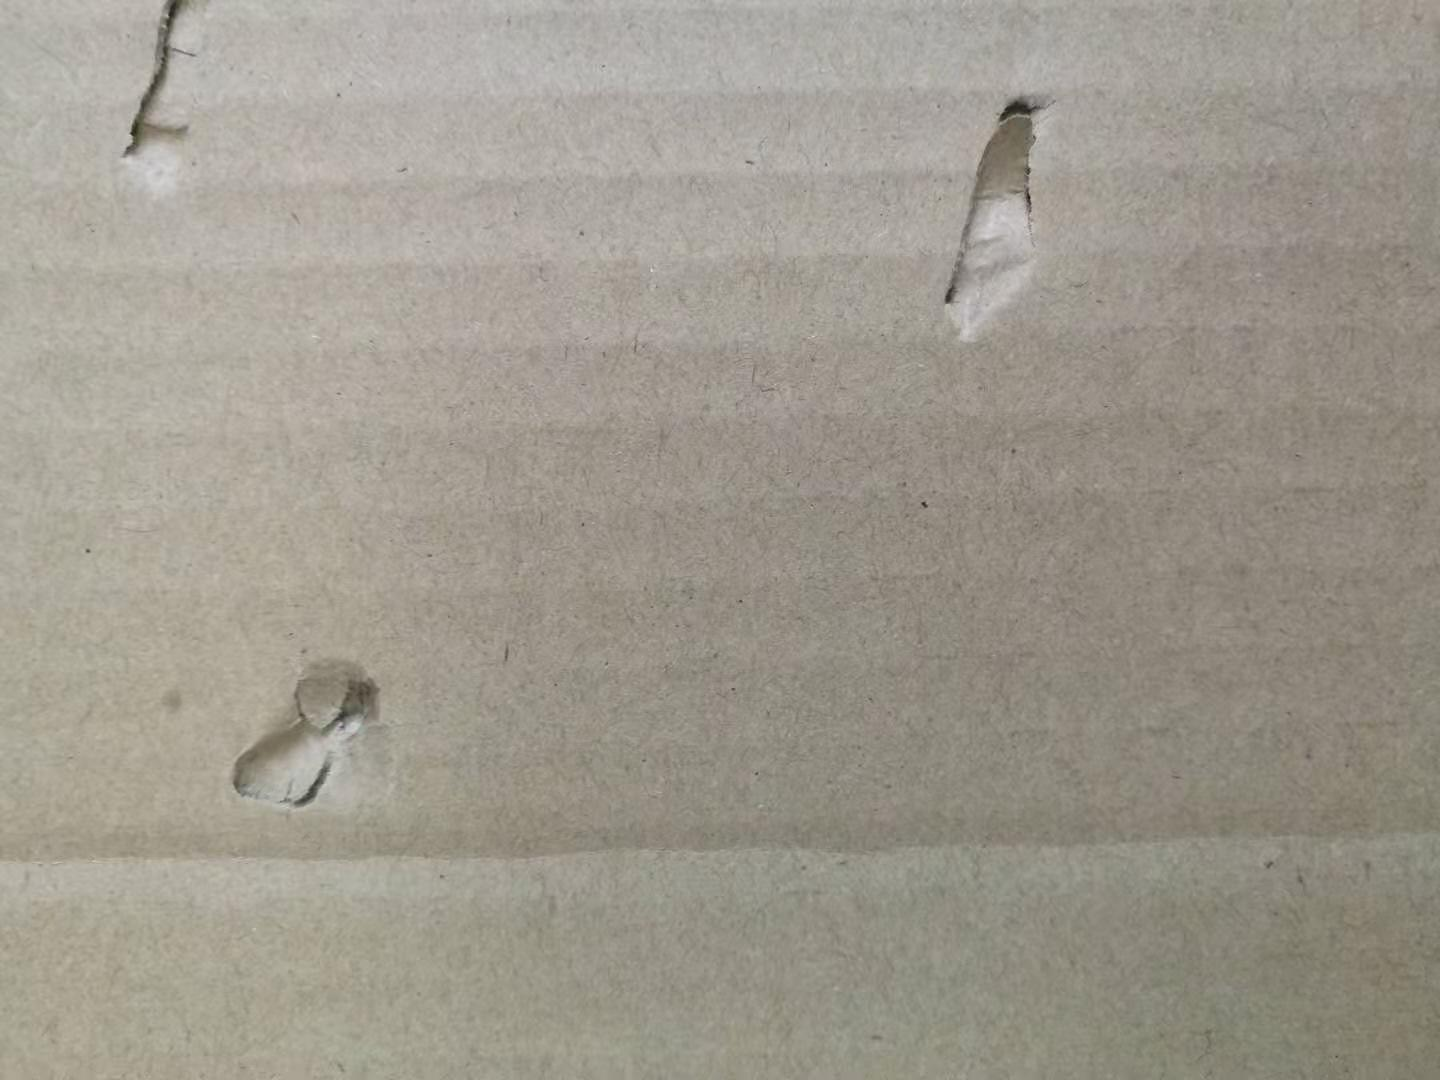defect: (1, 788, 1440, 933), (916, 71, 1101, 373), (190, 623, 440, 822), (83, 1, 249, 223)
